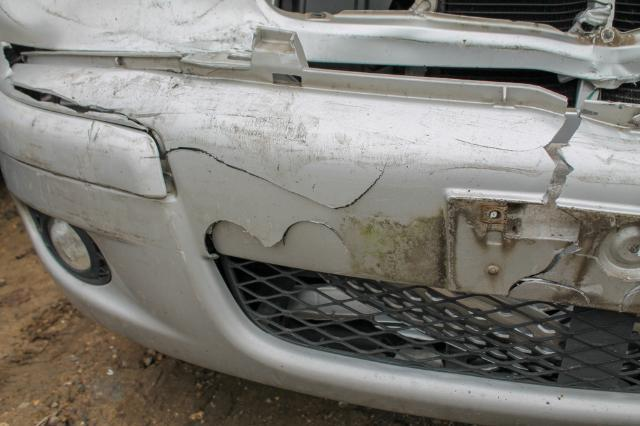crack: (165, 147, 386, 210), (506, 242, 604, 306), (11, 84, 149, 129), (202, 220, 349, 256), (542, 115, 583, 207)
scratch: (72, 68, 541, 178), (6, 110, 145, 240), (578, 131, 640, 186)
